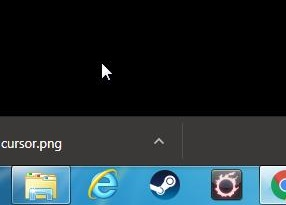cursor: (100, 62, 112, 81)
